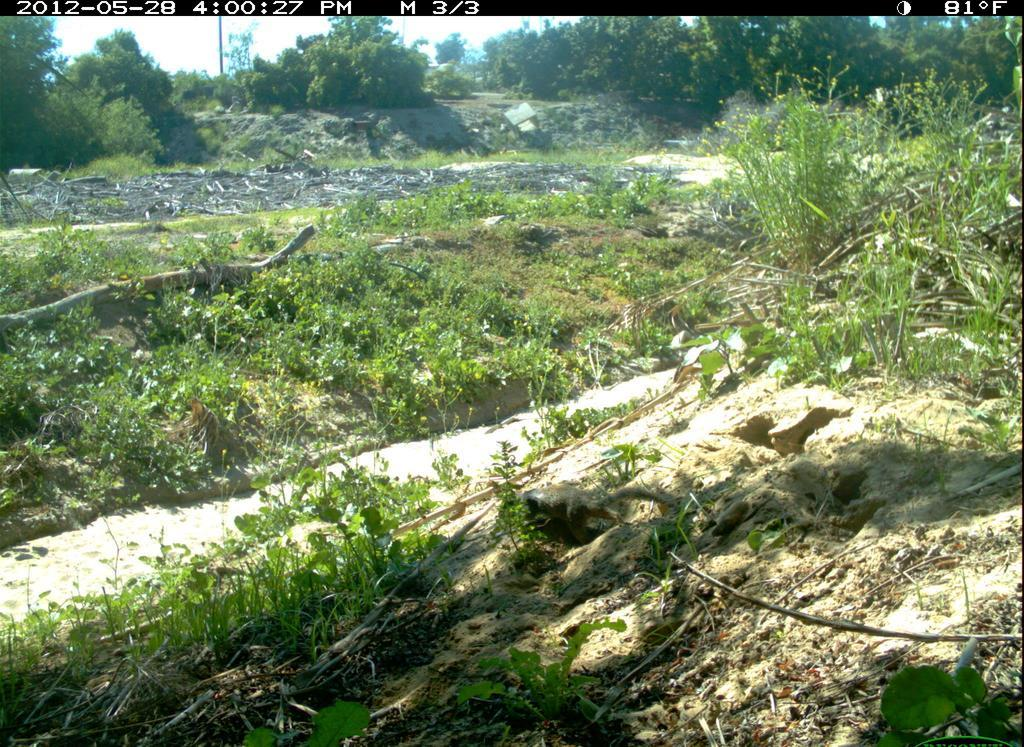squirrel: (509, 475, 685, 559)
